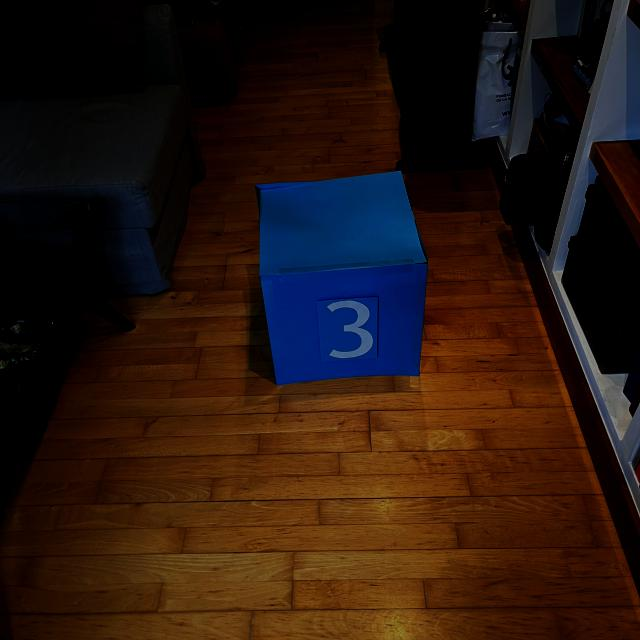box: (250, 168, 431, 386)
